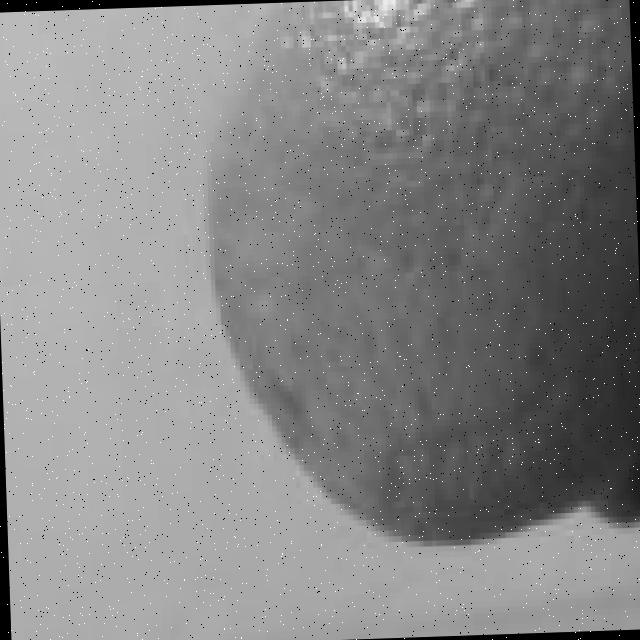Good_Orange-15-21 days: (202, 0, 640, 546)
